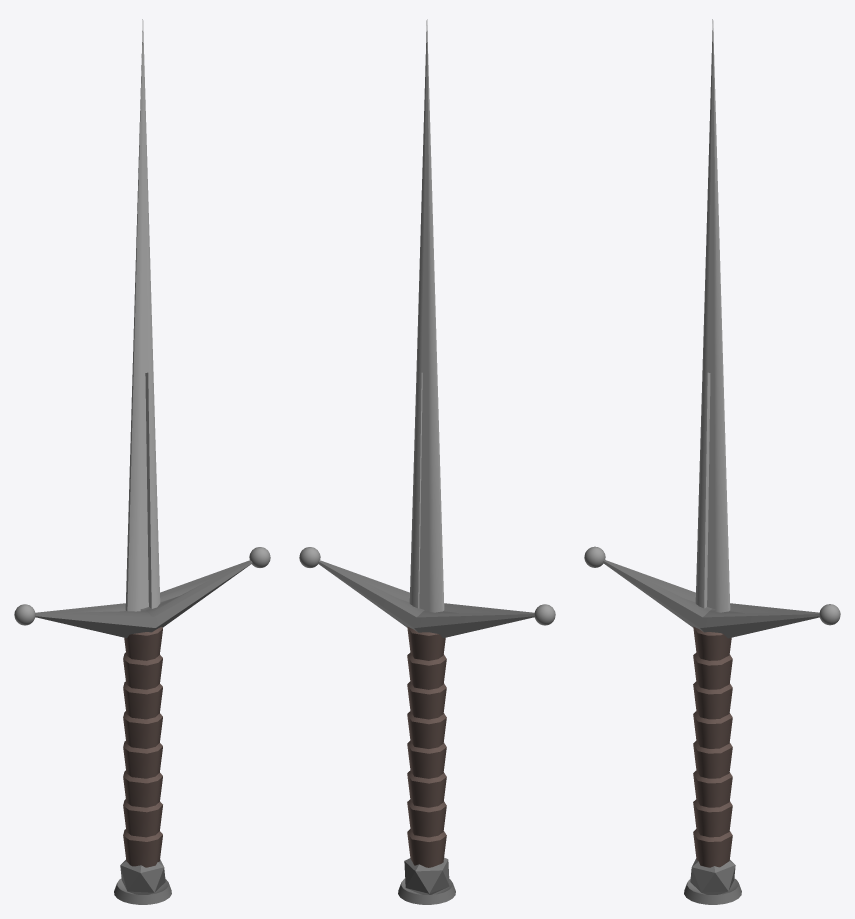
Rendered from Claymore Sword.fbx.
3 views of the same model, side by side, from view 1: azimuth 30°, elevation 25°; view 2: azimuth 150°, elevation 25°; view 3: azimuth 330°, elevation 25° (orthographic).
Parts seen in each view (by area): view 1: Claymore_Sword_The_Throat; view 2: Claymore_Sword_The_Throat; view 3: Claymore_Sword_The_Throat.
Boxes of the visible parts, left/top/right/bottom form: Claymore_Sword_The_Throat: left=14, top=19, right=270, bottom=904; Claymore_Sword_The_Throat: left=299, top=19, right=555, bottom=904; Claymore_Sword_The_Throat: left=584, top=19, right=840, bottom=904.
Bounding box in the file's own units: 24.55 × 82.45 × 4.89.
